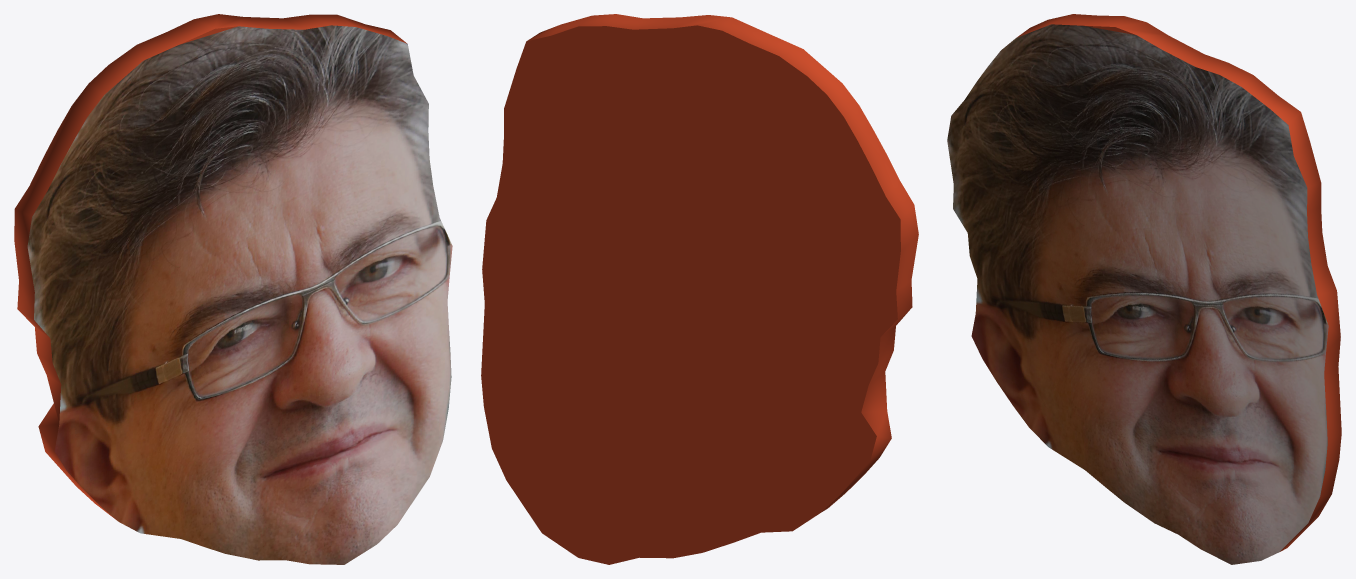
The model's file is Jean-Luc_Melenchon.glb.
3 views of the same model, side by side, from view 1: azimuth 30°, elevation 25°; view 2: azimuth 150°, elevation 25°; view 3: azimuth 330°, elevation 25° (orthographic). The views are drawn at different scales.
Visible parts, largest first — view 1: Curve; view 2: Curve; view 3: Curve.
Part boxes in pixels (left/top/right/bottom): Curve: left=14, top=14, right=452, bottom=564; Curve: left=481, top=14, right=918, bottom=564; Curve: left=947, top=14, right=1341, bottom=564.
Size of the model in its own units: 2.36 by 3.01 by 0.15.
2 materials, 1 textured.
